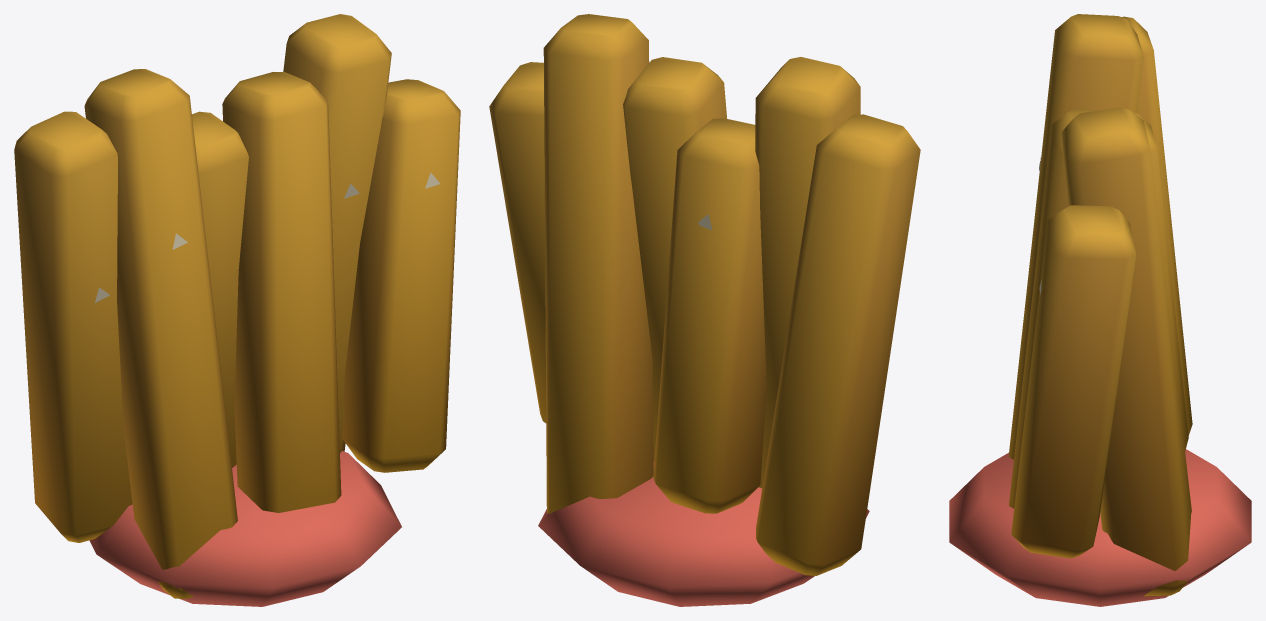
File: fry_star.glb
The picture shows the model from 3 angles, left to right: view 1: azimuth 30°, elevation 25°; view 2: azimuth 150°, elevation 25°; view 3: azimuth 270°, elevation 25°; orthographic projection. The views are drawn at different scales.
Visible parts, largest first — view 1: Sticks, Carrier; view 2: Sticks, Carrier; view 3: Sticks, Carrier.
Part boxes in pixels (x1,y1,x2,y2): Sticks: (14, 14, 460, 598); Carrier: (89, 451, 401, 606); Sticks: (489, 14, 920, 575); Carrier: (538, 462, 869, 606); Sticks: (1009, 14, 1192, 596); Carrier: (949, 449, 1251, 606).
Size of the model in its own units: 0.3761 by 0.4419 by 0.2473.
